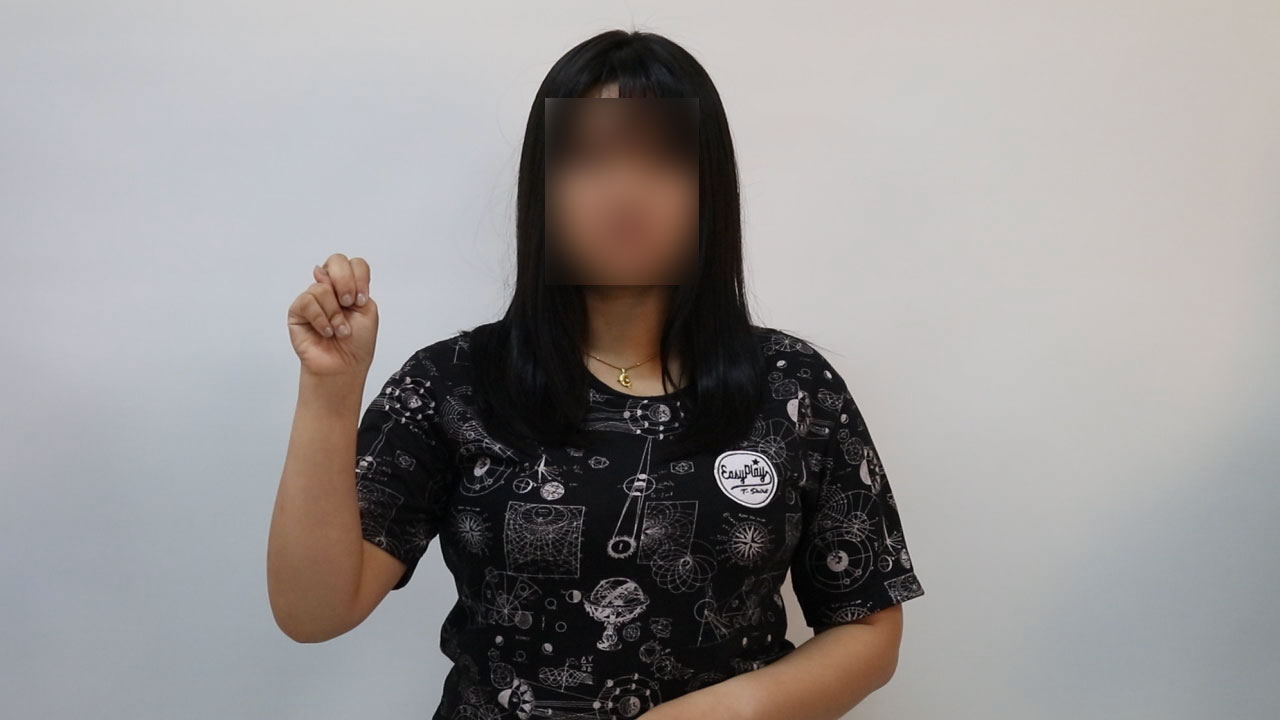nor: (277, 236, 396, 390)
